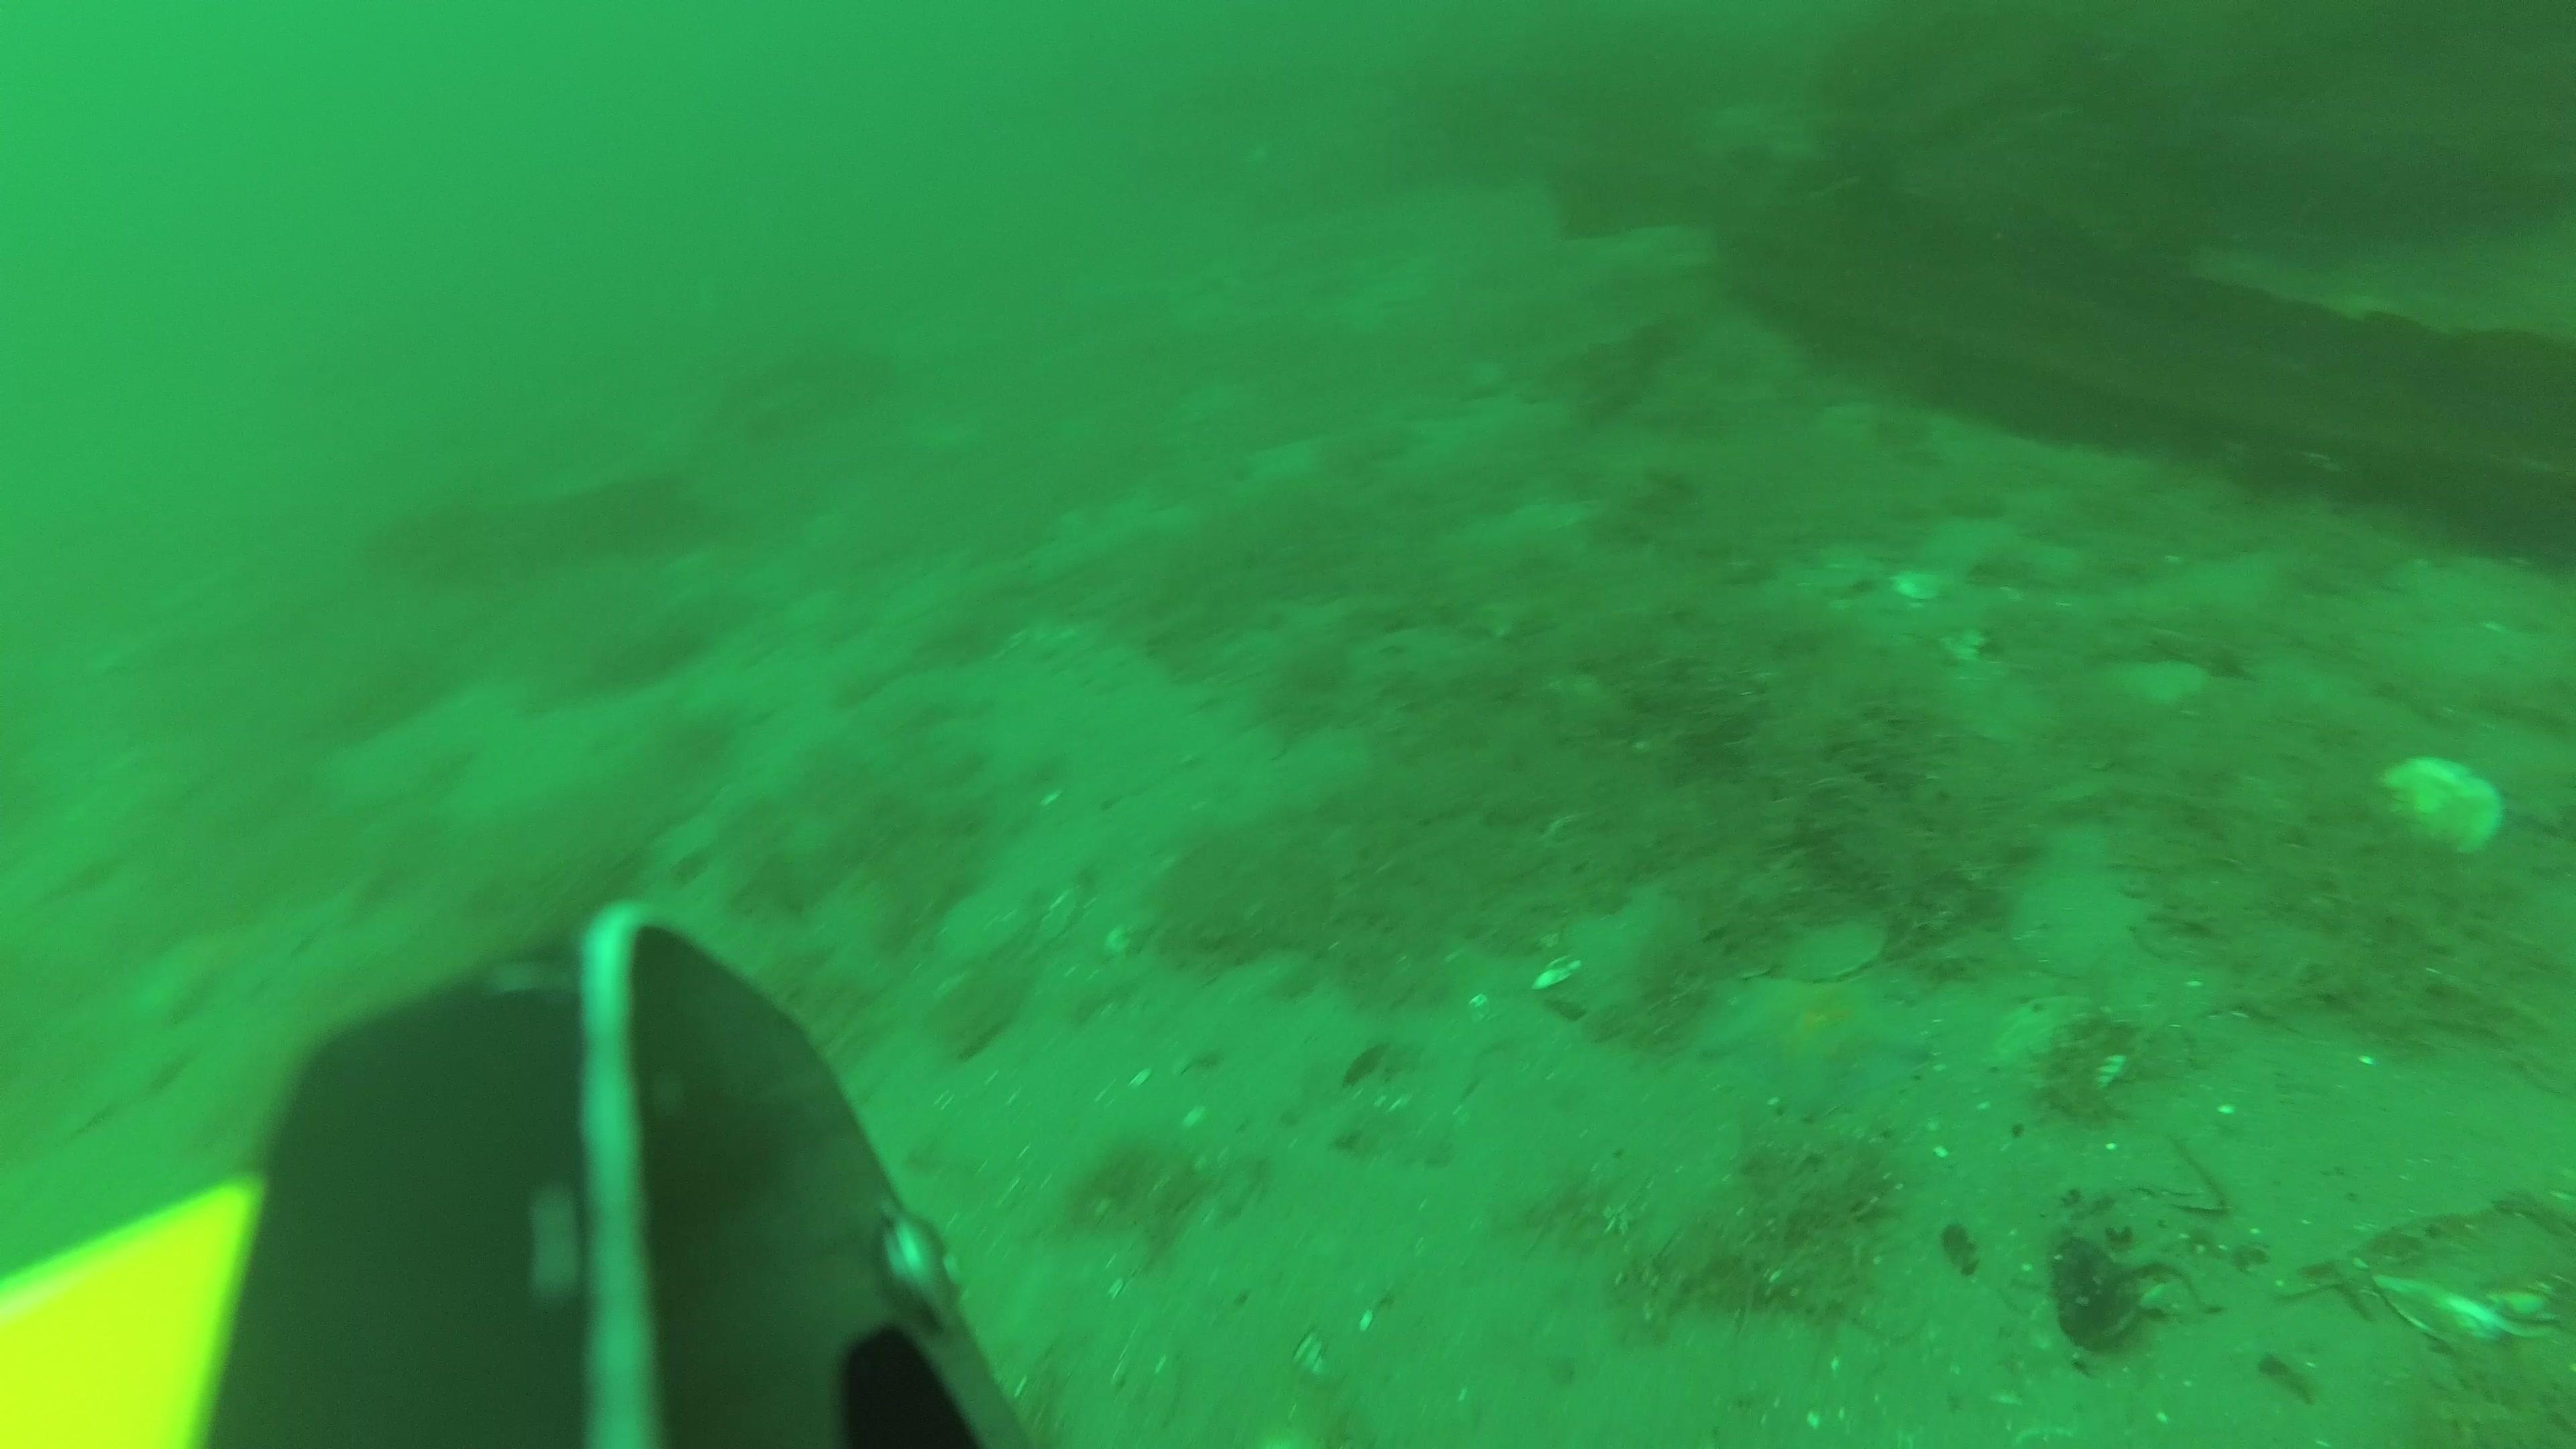scallop: (1999, 867, 2158, 980), (324, 711, 483, 819), (938, 879, 1035, 971), (1780, 911, 1886, 985), (2121, 651, 2204, 708)
starfish: (1707, 966, 1927, 1120)
